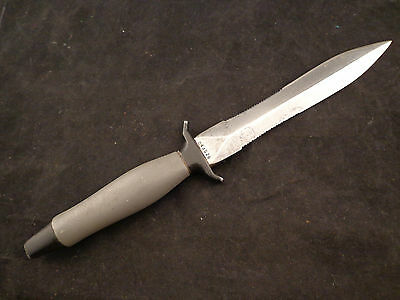knief: (14, 40, 393, 262)
